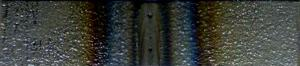soldas: (89, 0, 217, 66)
